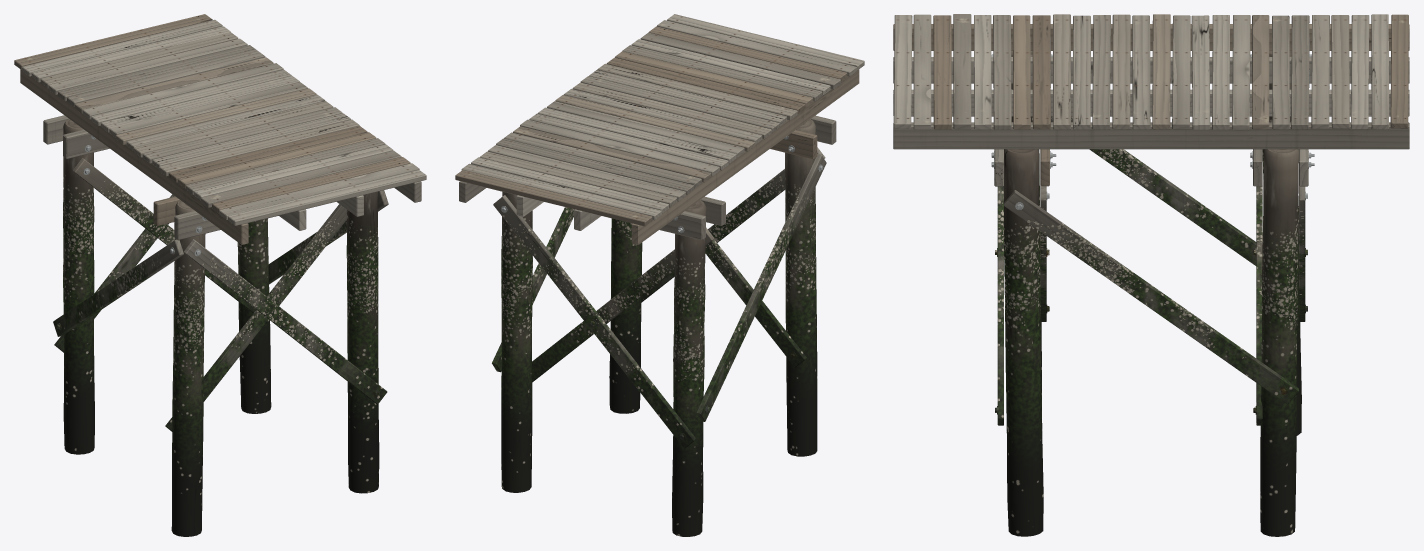
File: Pier_Straight.gltf
The picture shows the model from 3 angles, left to right: view 1: azimuth 30°, elevation 25°; view 2: azimuth 150°, elevation 25°; view 3: azimuth 270°, elevation 25°; orthographic projection. The views are drawn at different scales.
Parts seen in each view (by area): view 1: Pier_Straight; view 2: Pier_Straight; view 3: Pier_Straight.
Part boxes in pixels (bbox=[...]): Pier_Straight: bbox=[14, 14, 426, 536]; Pier_Straight: bbox=[455, 14, 864, 536]; Pier_Straight: bbox=[893, 14, 1409, 536].
Bounding box in the file's own units: 2.31 × 3.5 × 4.
4 materials, 4 textured.
